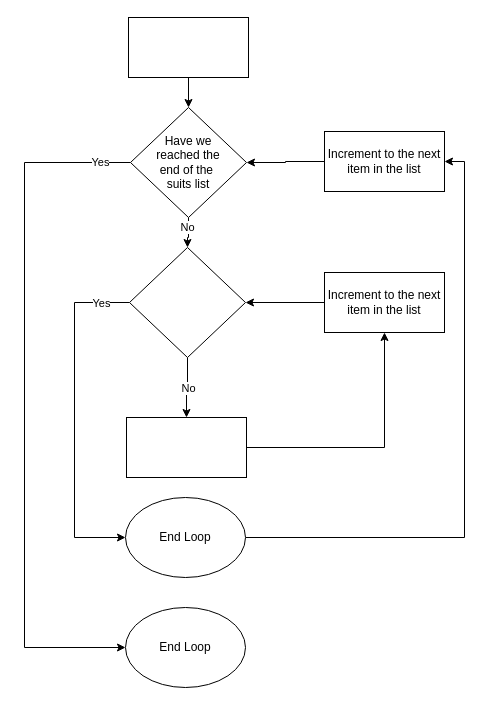
Some shapes in this 490 by 705 pixel diagram are drawn without their labels. The box of each missing label's shape, as (x1, y1, x2, y2) in pixels:
Create a card object using the current items in the lists: (126, 416, 246, 478)
Have we reached the end of the values list: (128, 246, 246, 358)
Initialisaiton: (128, 16, 248, 78)
